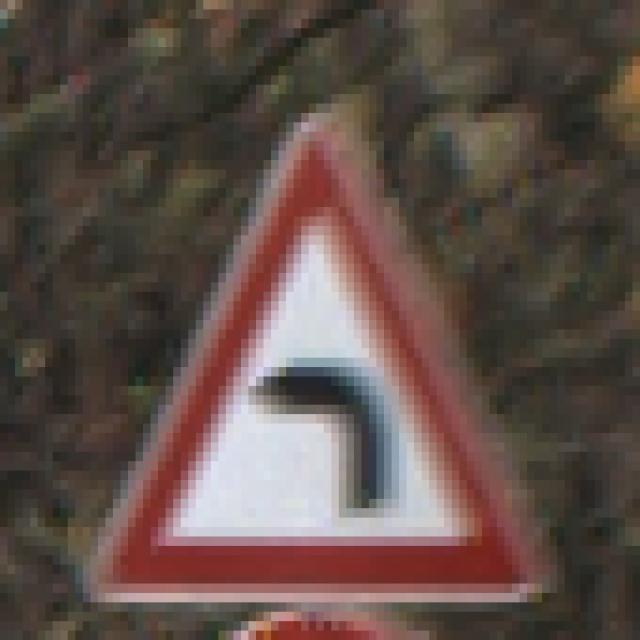left hand curve: (89, 118, 549, 597)
